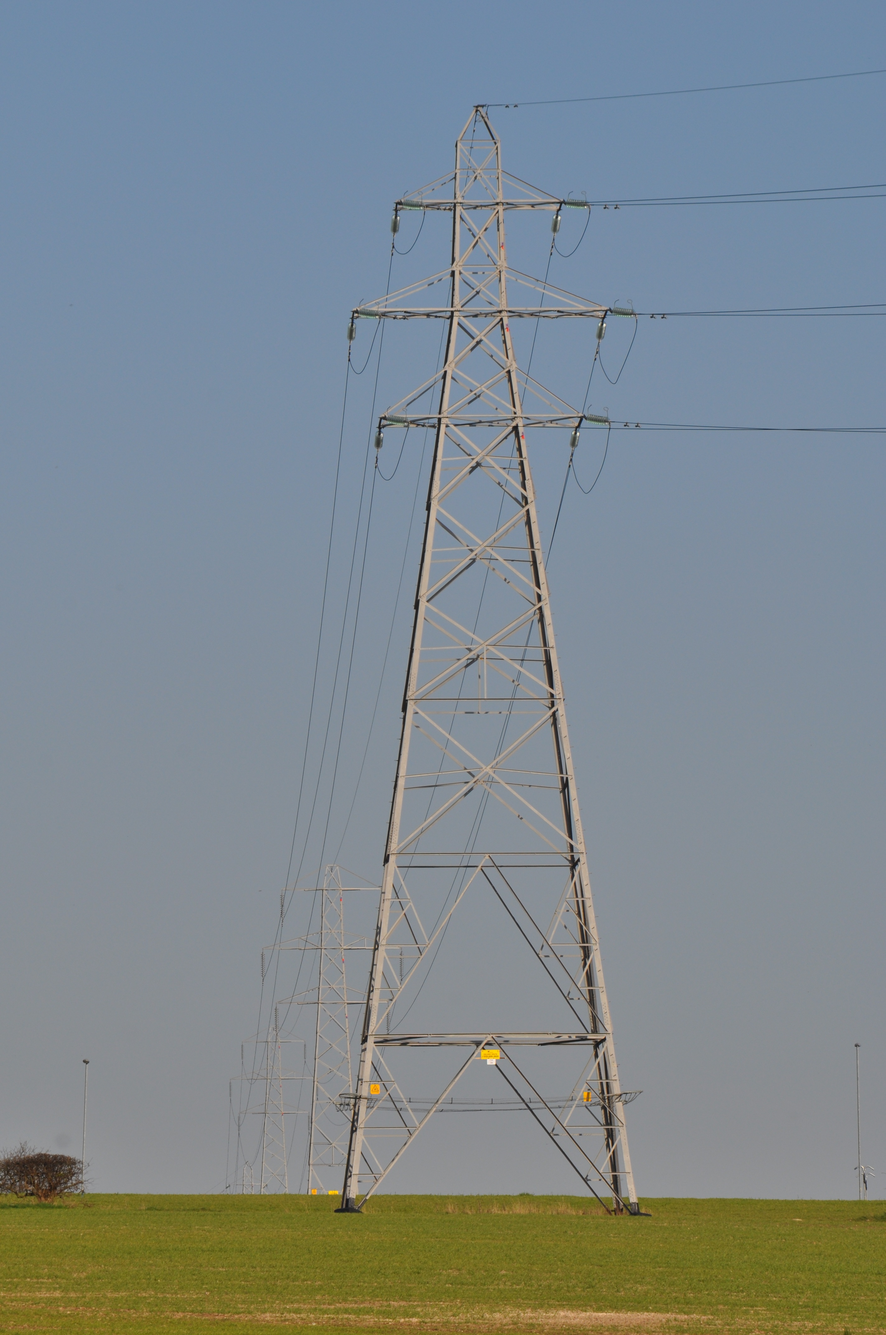insulator: (565, 195, 593, 211), (585, 411, 613, 427), (403, 196, 428, 213), (357, 306, 384, 321), (385, 413, 413, 427), (610, 304, 639, 317), (389, 209, 401, 237), (373, 429, 385, 451), (551, 213, 562, 236), (596, 318, 606, 343), (346, 321, 357, 342), (570, 429, 580, 450)
